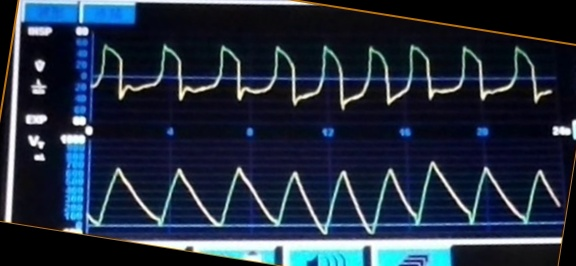Premature_cycling Flow: (94, 40, 550, 120)
Premature_cycling Volume: (90, 158, 557, 233)
